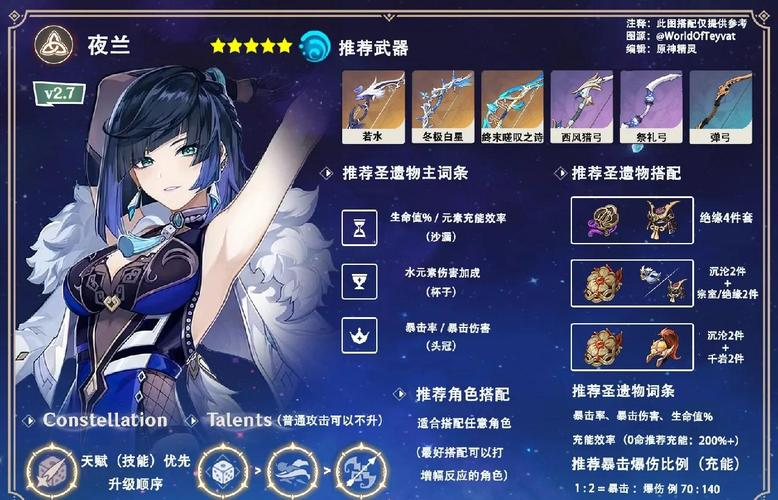夜兰: (41, 64, 330, 425)
